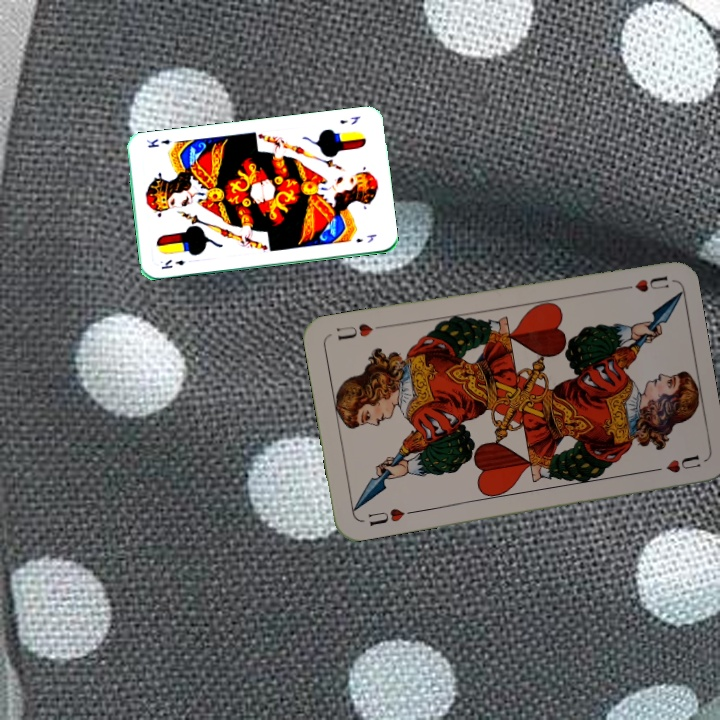EK: (158, 255, 187, 272), (336, 112, 363, 127)
HU: (613, 272, 672, 295), (364, 504, 417, 529)
